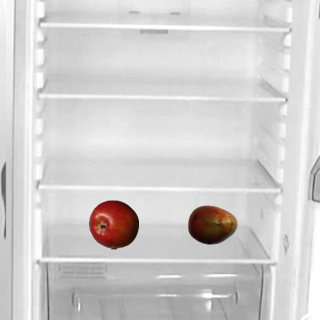Apple Braeburn: (88, 199, 138, 249)
Mango Red: (187, 199, 237, 249)
